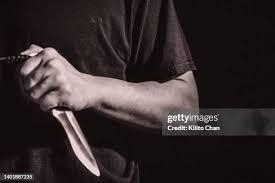Knife: (13, 40, 206, 140), (14, 42, 90, 115), (47, 104, 104, 179)
